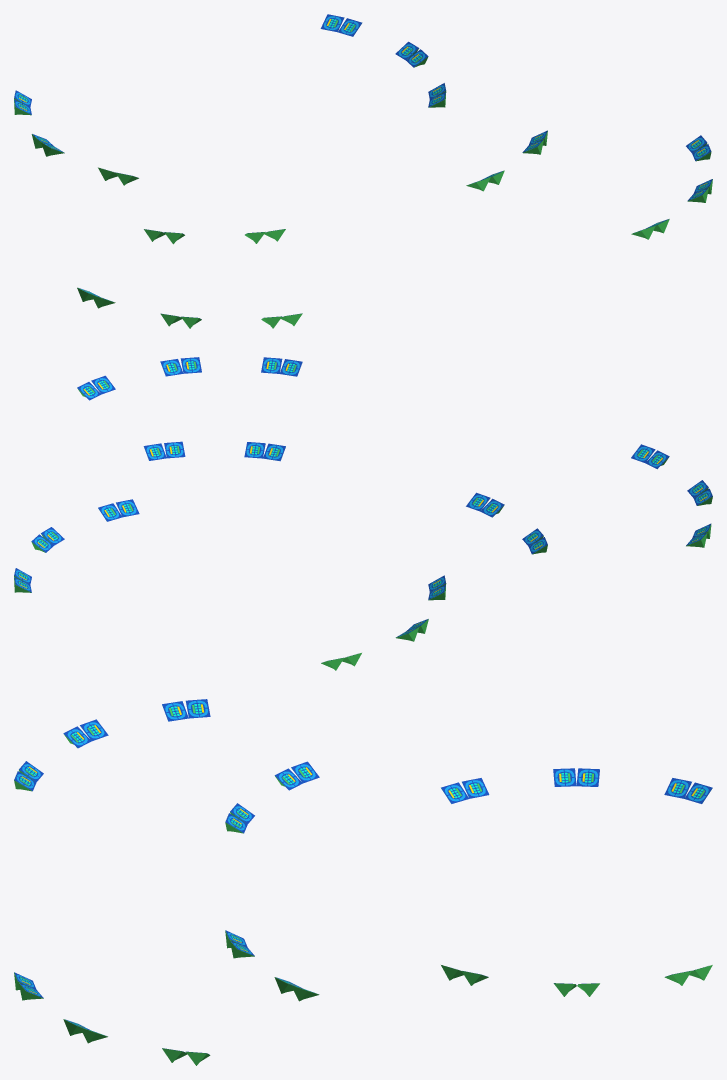
File: Teclados_Monitoramento_SegundoAndar.gltf
3 views of the same model, one above another, from view 1: azimuth 30°, elevation 25°; view 2: azimuth 150°, elevation 25°; view 3: azimuth 270°, elevation 25° (orthographic). The views are drawn at different scales.
Visible parts, largest first — view 1: Teclado_Slider.021; view 2: Teclado_Slider.021; view 3: Teclado_Slider.021.
Boxes of the visible parts, x1,y1,x2,y2 form: Teclado_Slider.021: (14,14,712,328); Teclado_Slider.021: (14,357,712,670); Teclado_Slider.021: (14,699,712,1065).
Bounding box in the file's own units: 16.93 × 0.2997 × 14.12.
1 material, 1 textured.
